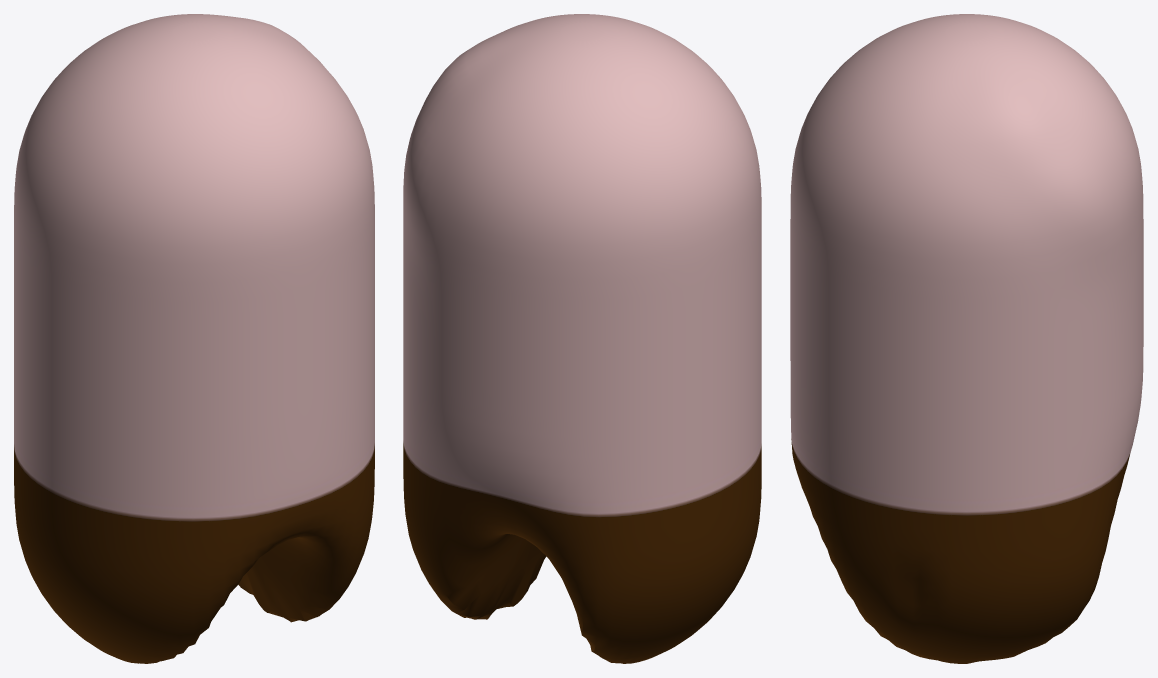
The model's file is foot.glb.
3 renders of one model, left to right at view 1: azimuth 30°, elevation 25°; view 2: azimuth 150°, elevation 25°; view 3: azimuth 270°, elevation 25°, orthographic.
Parts seen in each view (by area): view 1: hand; view 2: hand; view 3: hand.
Part boxes in pixels (x1,y1,x2,y2): hand: (14, 14, 374, 663); hand: (403, 14, 761, 663); hand: (790, 14, 1143, 663).
Bounding box in the file's own units: 0.3067 × 0.5671 × 0.3033.
1 material, 1 textured.
